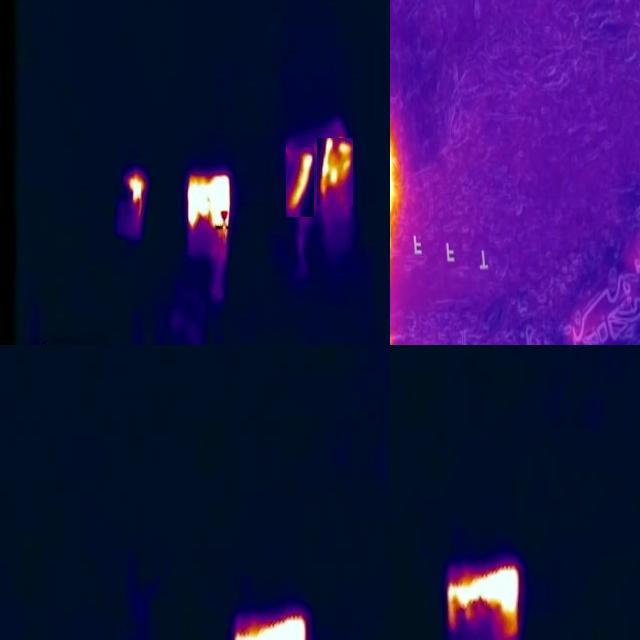fire: (445, 563, 523, 640), (187, 171, 234, 245), (317, 138, 353, 206), (232, 613, 310, 640), (286, 147, 314, 217), (390, 112, 403, 245), (127, 171, 146, 215)
